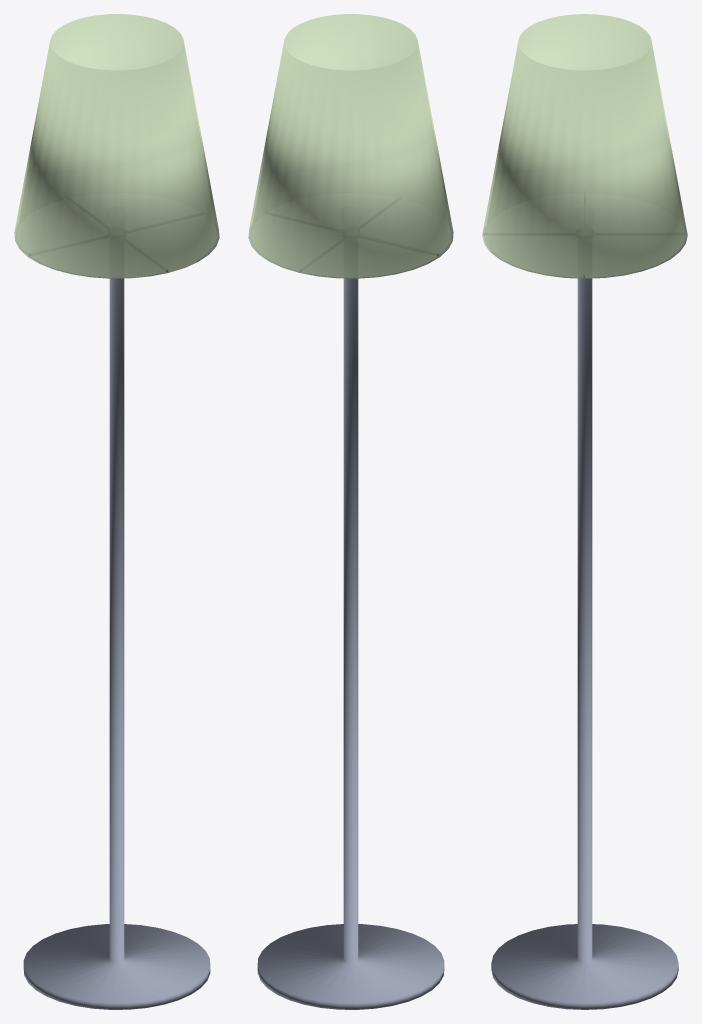
Rendered from lamp-00000.glb.
3 renders of one model, left to right at view 1: azimuth 30°, elevation 25°; view 2: azimuth 150°, elevation 25°; view 3: azimuth 270°, elevation 25°, orthographic.
Visible parts, largest first — view 1: Cylinder; view 2: Cylinder; view 3: Cylinder.
Boxes of the visible parts, bbox=[...] form: Cylinder: bbox=[14, 14, 219, 1009]; Cylinder: bbox=[248, 14, 453, 1009]; Cylinder: bbox=[482, 14, 687, 1009].
Bounding box in the file's own units: 0.2604 × 1.3 × 0.2604.
